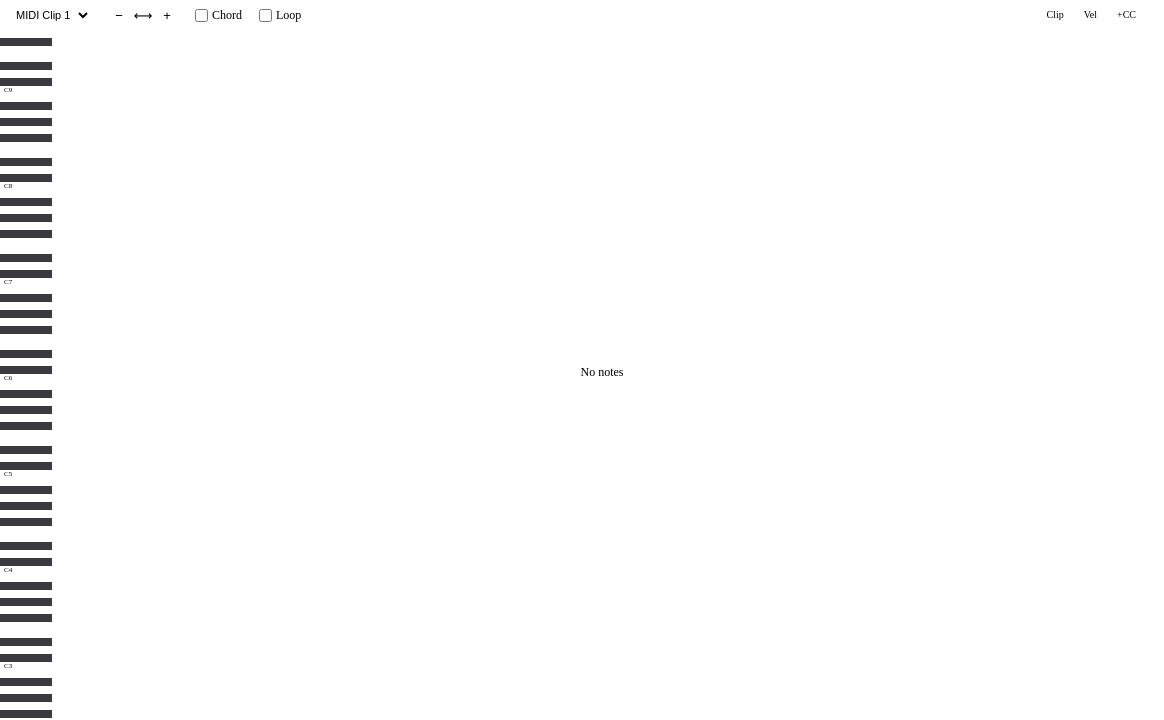
Test case: PianoRoll › Clip Controls › gain slider appears in clip popover
Step 1. Click the button with aria-label "Clip controls" → [1055, 15], box [1038,5,1072,25]
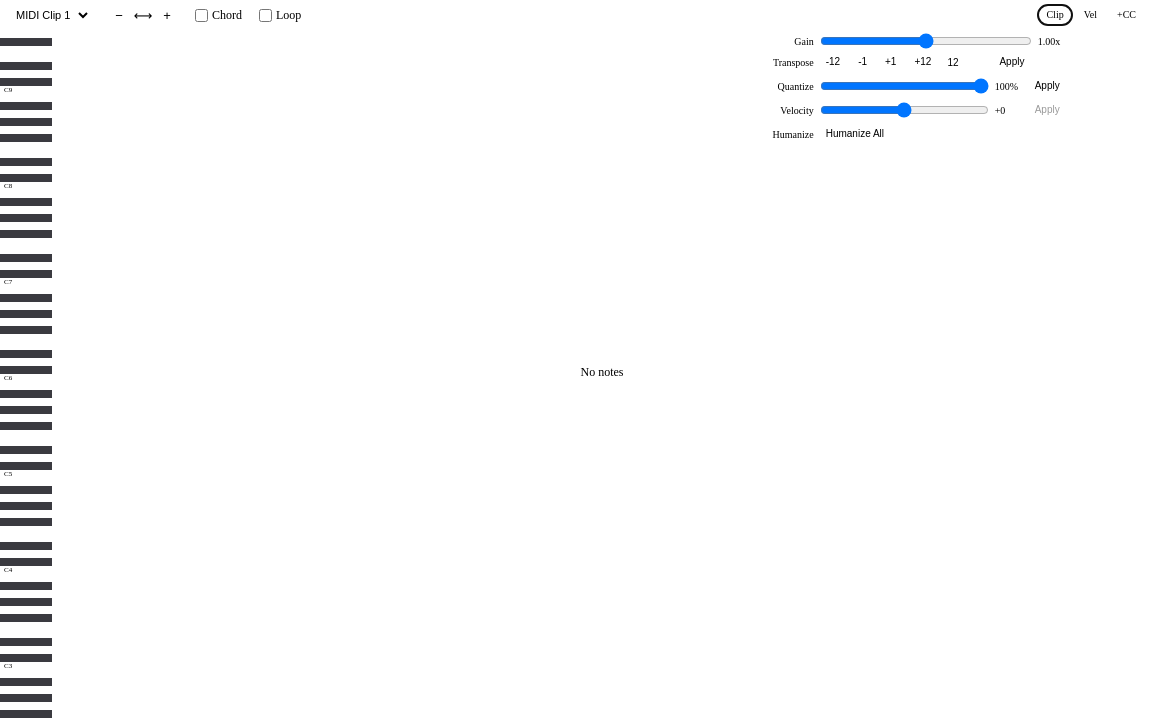
Check: the text "1.00x" is shown, box [1038,36,1060,46]
